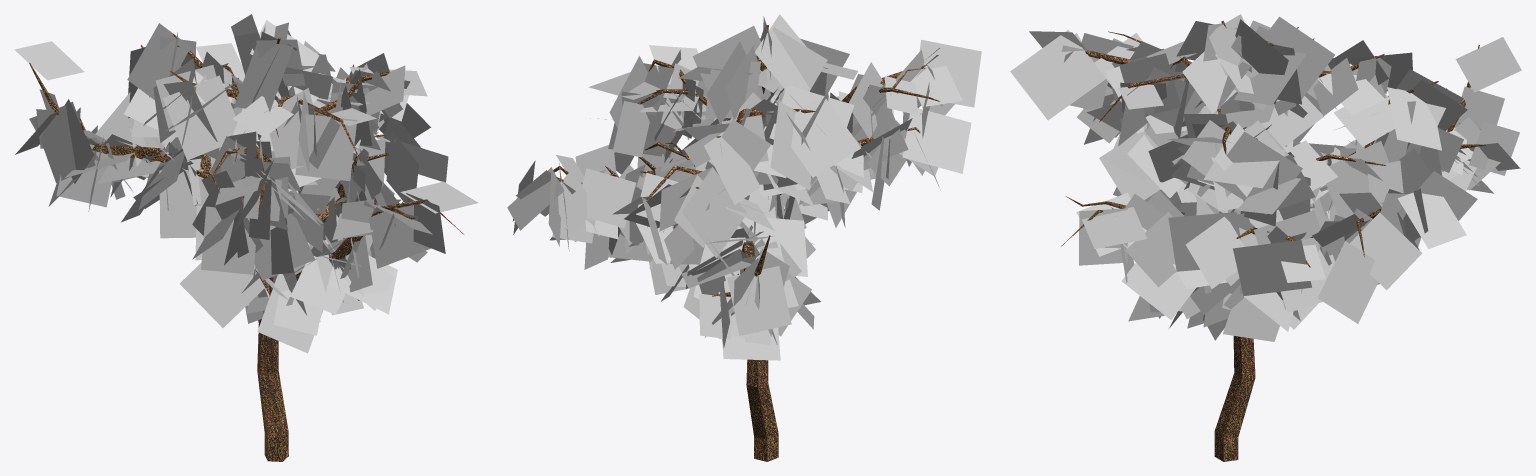
File: oak01.fbx
3 renders of one model, left to right at view 1: azimuth 30°, elevation 25°; view 2: azimuth 150°, elevation 25°; view 3: azimuth 270°, elevation 25°, orthographic. The views are drawn at different scales.
Parts seen in each view (by area): view 1: Cylinder.603, Cylinder.602; view 2: Cylinder.603, Cylinder.602; view 3: Cylinder.603, Cylinder.602.
Boxes of the visible parts, x1,y1,x2,y2 form: Cylinder.603: (14, 14, 478, 353); Cylinder.602: (29, 33, 464, 461); Cylinder.603: (507, 14, 981, 360); Cylinder.602: (553, 25, 940, 461); Cylinder.603: (1010, 14, 1521, 341); Cylinder.602: (1061, 20, 1485, 461).
Bounding box in the file's own units: 3058 × 3633 × 3827.
